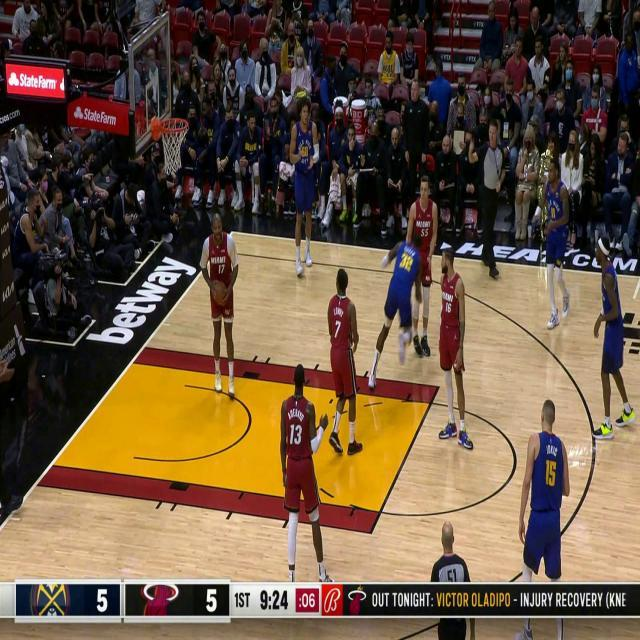rim: (212, 282, 226, 306)
